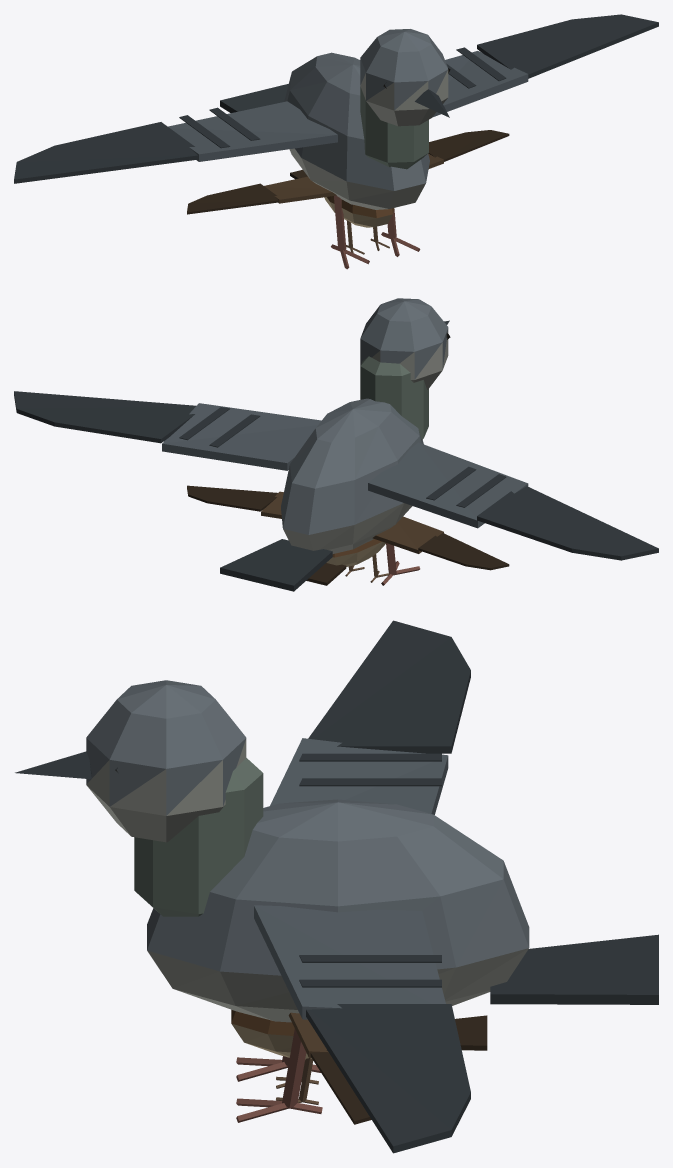
Rendered from campus-birds-v03.glb.
3 views of the same model, one above another, from view 1: azimuth 30°, elevation 25°; view 2: azimuth 150°, elevation 25°; view 3: azimuth 270°, elevation 25° (orthographic). The views are drawn at different scales.
Parts seen in each view (by area): view 1: pigeon_torso, pigeon_head_mesh, pigeon_left_tip_mesh, pigeon_left_wing_mesh, pigeon_right_tip_mesh, pigeon_right_wing_mesh, sparrow_left_tip_mesh, sparrow_right_tip_mesh, sparrow_left_wing_mesh, pigeon_tail_mesh, sparrow_torso, pigeon_left_foot_mesh (+1 smaller); view 2: pigeon_torso, pigeon_left_wing_mesh, pigeon_right_wing_mesh, pigeon_left_tip_mesh, pigeon_right_tip_mesh, pigeon_head_mesh, pigeon_tail_mesh, sparrow_left_tip_mesh, sparrow_right_tip_mesh, sparrow_left_wing_mesh, sparrow_torso, sparrow_tail_mesh (+1 smaller); view 3: pigeon_torso, pigeon_head_mesh, pigeon_right_tip_mesh, pigeon_right_wing_mesh, pigeon_left_tip_mesh, pigeon_tail_mesh, pigeon_left_wing_mesh, pigeon_right_foot_mesh, sparrow_torso, sparrow_right_tip_mesh, sparrow_tail_mesh, pigeon_left_foot_mesh (+1 smaller).
Part boxes in pixels (x1,y1,x2,y2): pigeon_torso: (284,52,429,209); pigeon_head_mesh: (360,29,450,126); pigeon_left_tip_mesh: (14,122,197,183); pigeon_left_wing_mesh: (168,101,337,161); pigeon_right_tip_mesh: (477,14,658,78); pigeon_right_wing_mesh: (432,47,528,117); sparrow_left_tip_mesh: (187,183,278,214); sparrow_right_tip_mesh: (428,130,509,161); sparrow_left_wing_mesh: (264,176,336,203); pigeon_tail_mesh: (220,84,288,112); sparrow_torso: (324,196,394,227); pigeon_left_foot_mesh: (331,195,369,269); pigeon_torso: (281,356,428,553); pigeon_left_wing_mesh: (368,442,528,528); pigeon_right_wing_mesh: (162,403,321,470); pigeon_left_tip_mesh: (477,486,658,560); pigeon_right_tip_mesh: (14,391,196,443); pigeon_head_mesh: (360,298,450,389); pigeon_tail_mesh: (220,539,332,591); sparrow_left_tip_mesh: (418,533,509,570); sparrow_right_tip_mesh: (187,485,277,511); sparrow_left_wing_mesh: (372,516,443,553); sparrow_torso: (326,539,385,566); sparrow_tail_mesh: (306,563,346,585); pigeon_torso: (134,758,529,1022); pigeon_head_mesh: (15,680,246,842); pigeon_right_tip_mesh: (306,1004,470,1153); pigeon_right_wing_mesh: (254,905,445,1019); pigeon_left_tip_mesh: (308,620,470,753); pigeon_tail_mesh: (490,934,658,1004); pigeon_left_wing_mesh: (270,738,448,814); pigeon_right_foot_mesh: (236,1028,322,1122); sparrow_torso: (231,1010,311,1059); sparrow_right_tip_mesh: (310,1050,371,1124); sparrow_tail_mesh: (455,1015,487,1050); pigeon_left_foot_mesh: (236,1056,320,1081).
Bounding box in the file's own units: 0.576 × 0.2094 × 0.2985.
